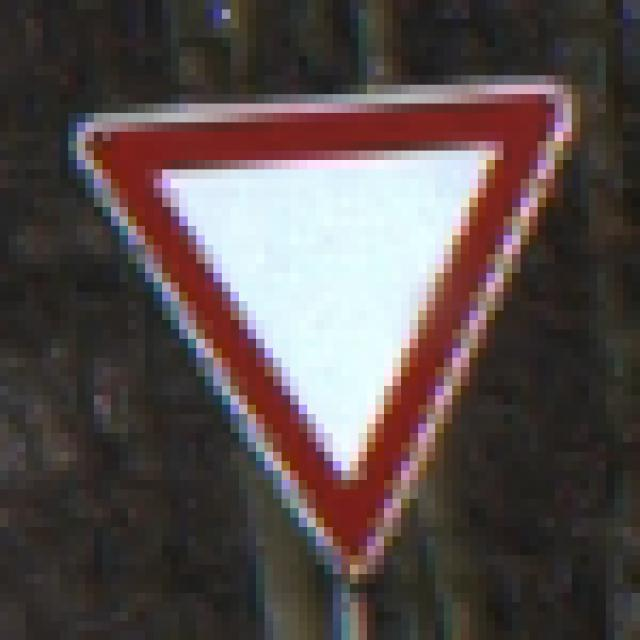Give Way: (52, 58, 590, 585)
